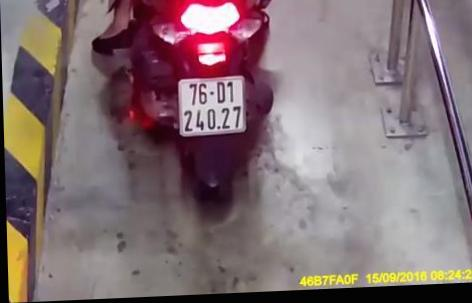License_Plate: (173, 73, 250, 140)
